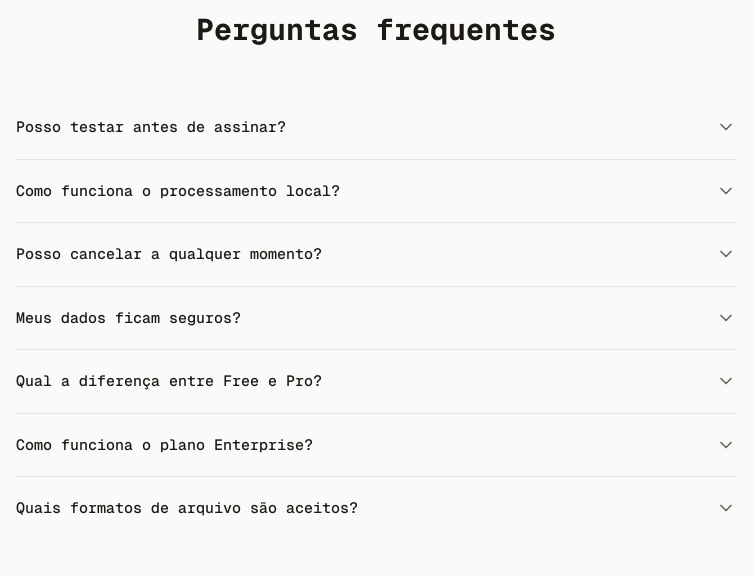
it: PricingFAQ › content visibility › shows q6 answer when q6 is expanded
Click the button "Como funciona o plano Enterprise?" at (165, 444), box [16,414,736,476]
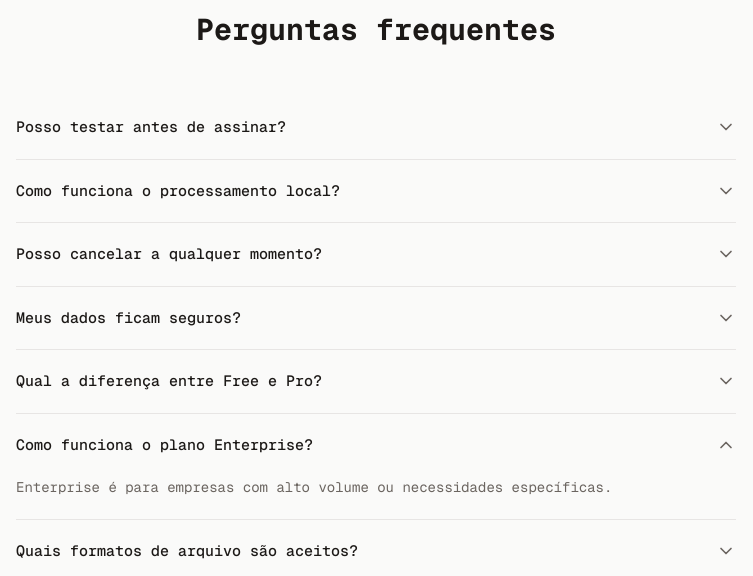
Result: the text "Enterprise é para empresas com alto volume ou necessidades específicas." is shown at [16,478,612,496]
